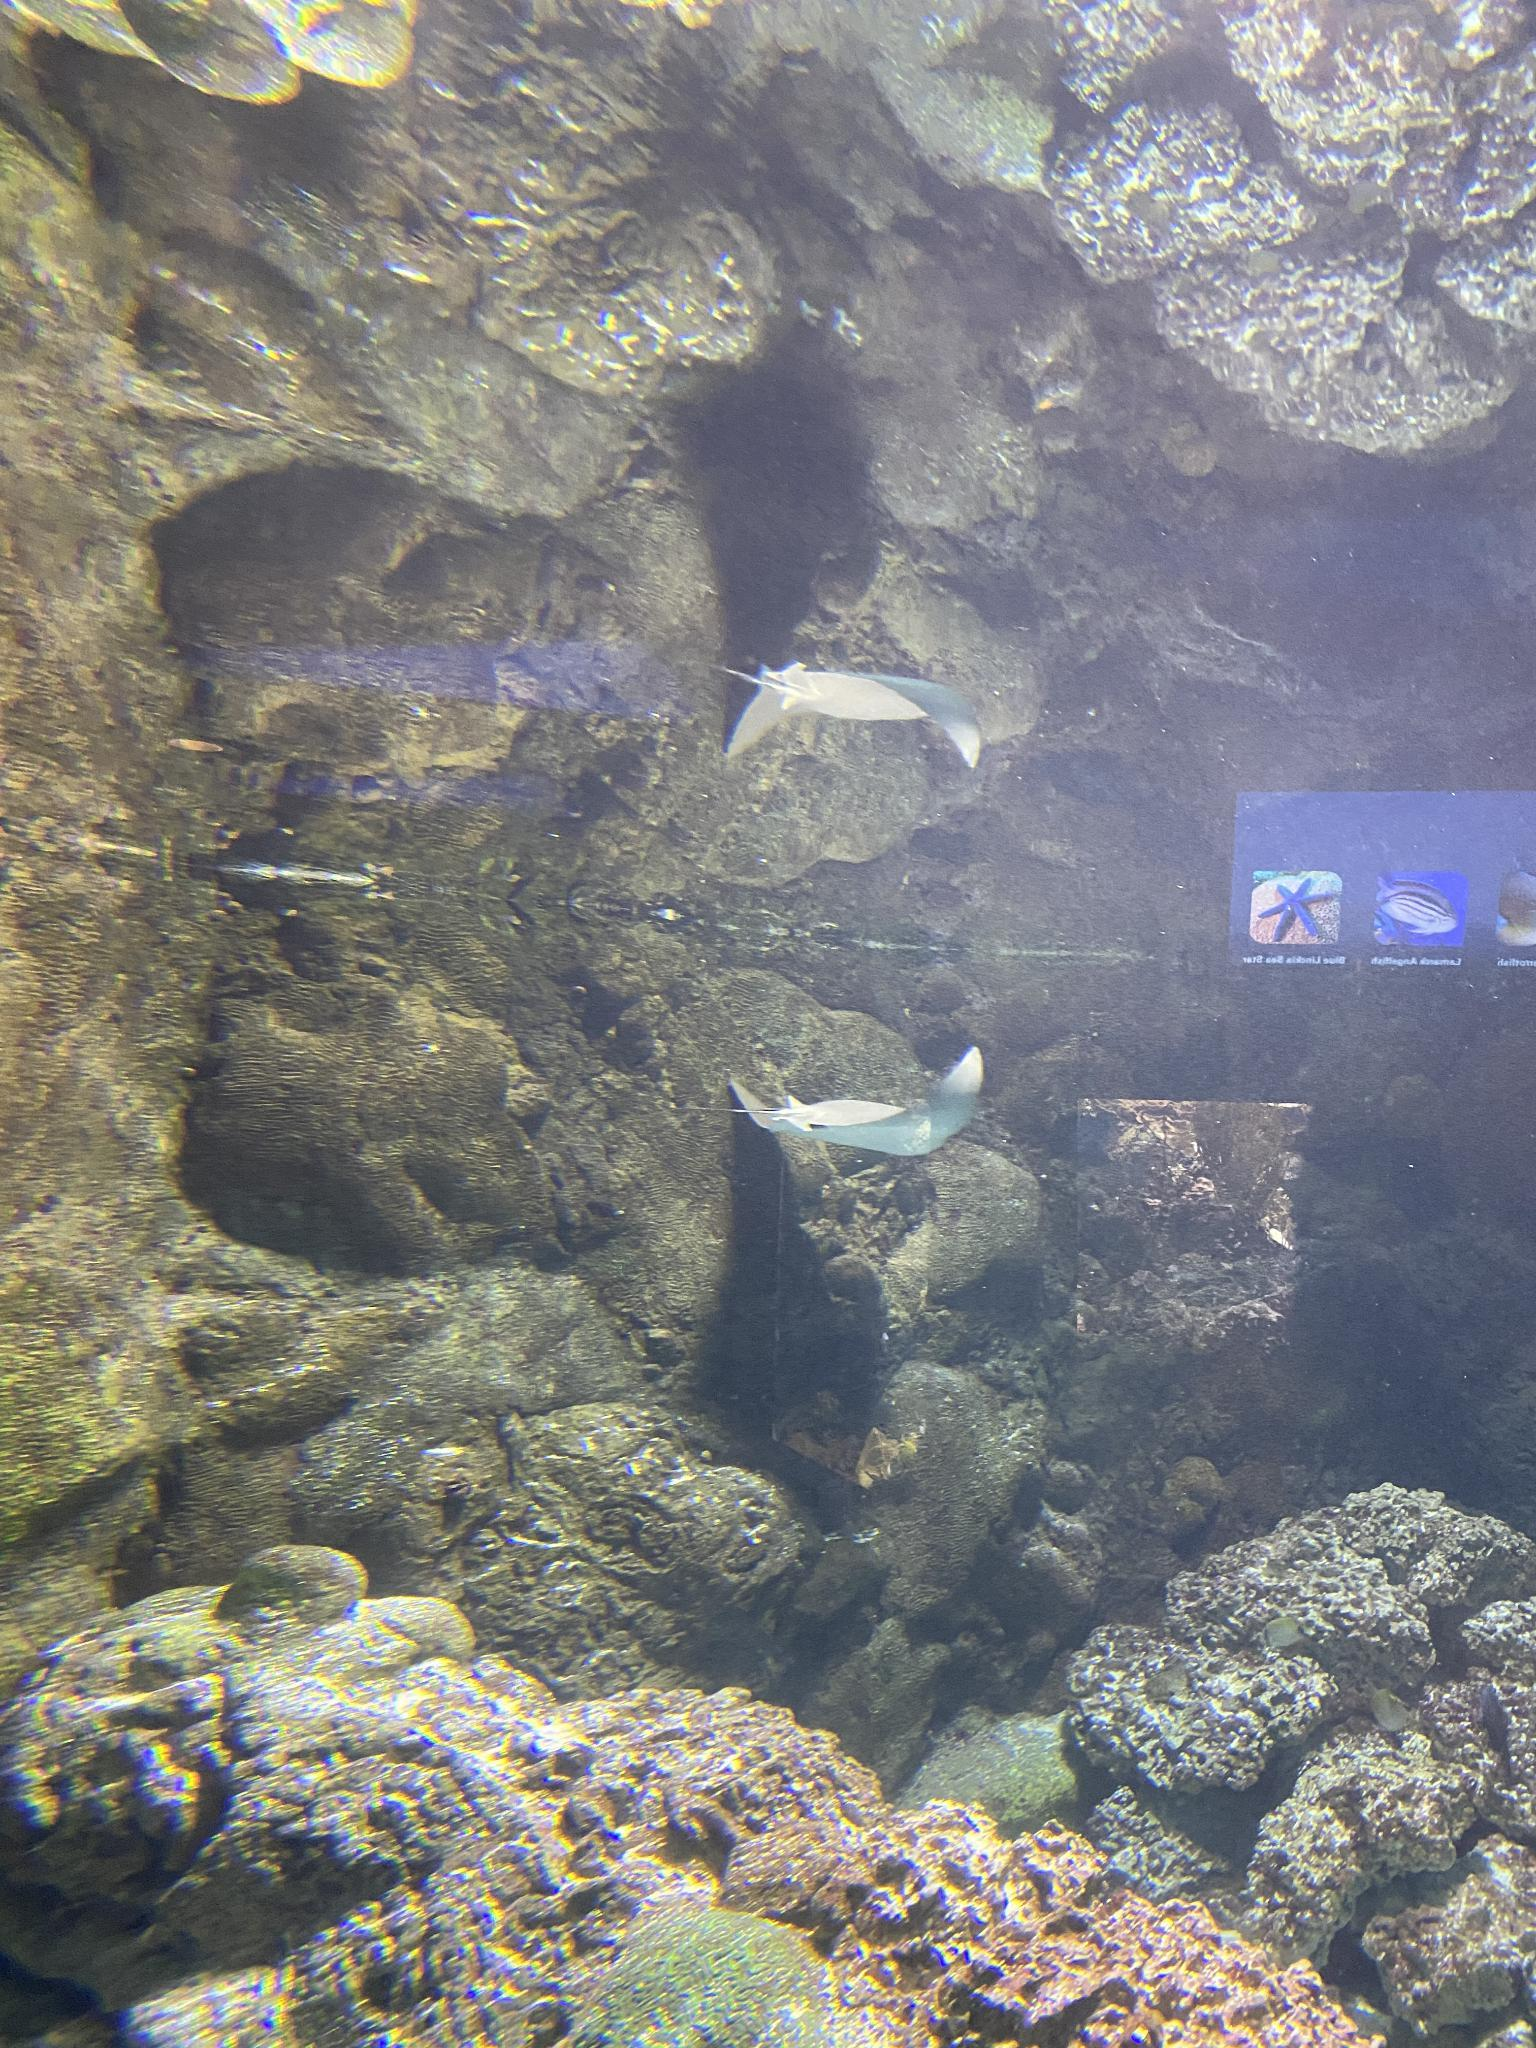stingray: (729, 1043, 984, 1155), (724, 666, 983, 769)
